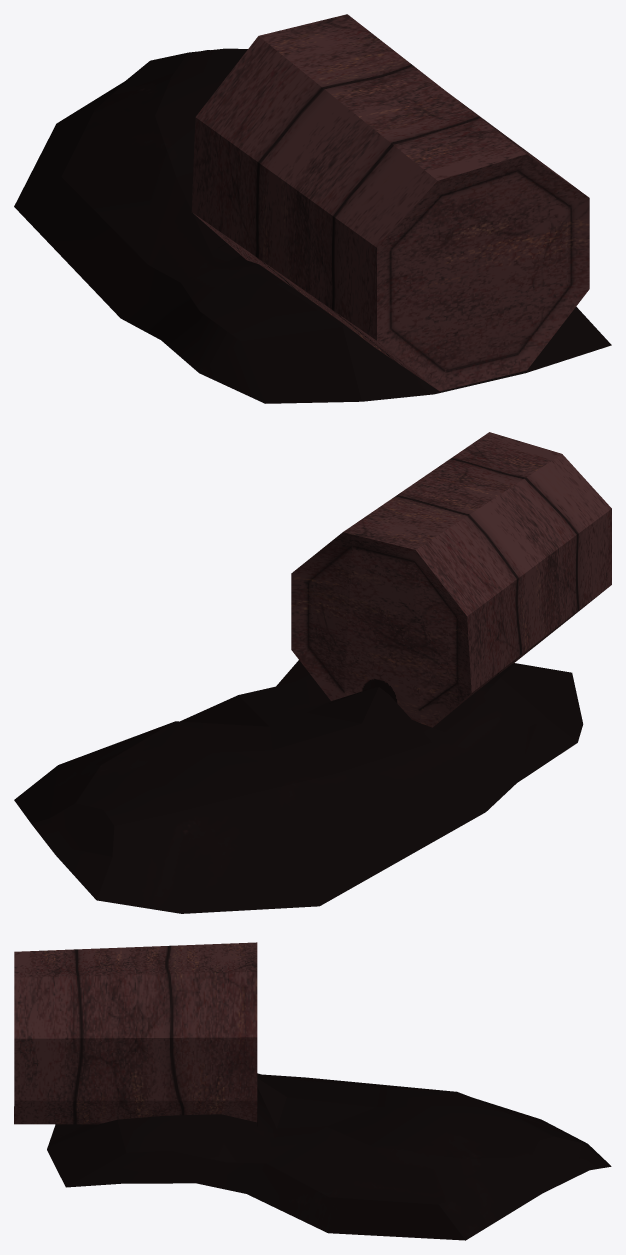
The model's file is oilCOMEPLETEFBX.fbx.
3 views of the same model, one above another, from view 1: azimuth 30°, elevation 25°; view 2: azimuth 150°, elevation 25°; view 3: azimuth 270°, elevation 25° (orthographic). The views are drawn at different scales.
Parts seen in each view (by area): view 1: pCylinder1; view 2: pCylinder1; view 3: pCylinder1.
Boxes of the visible parts, <box> form: pCylinder1: <box>14,14,611,403</box>; pCylinder1: <box>14,432,611,913</box>; pCylinder1: <box>14,942,611,1240</box>.
Size of the model in its own units: 2.22 by 1.31 by 3.64.
1 material, 1 textured.
